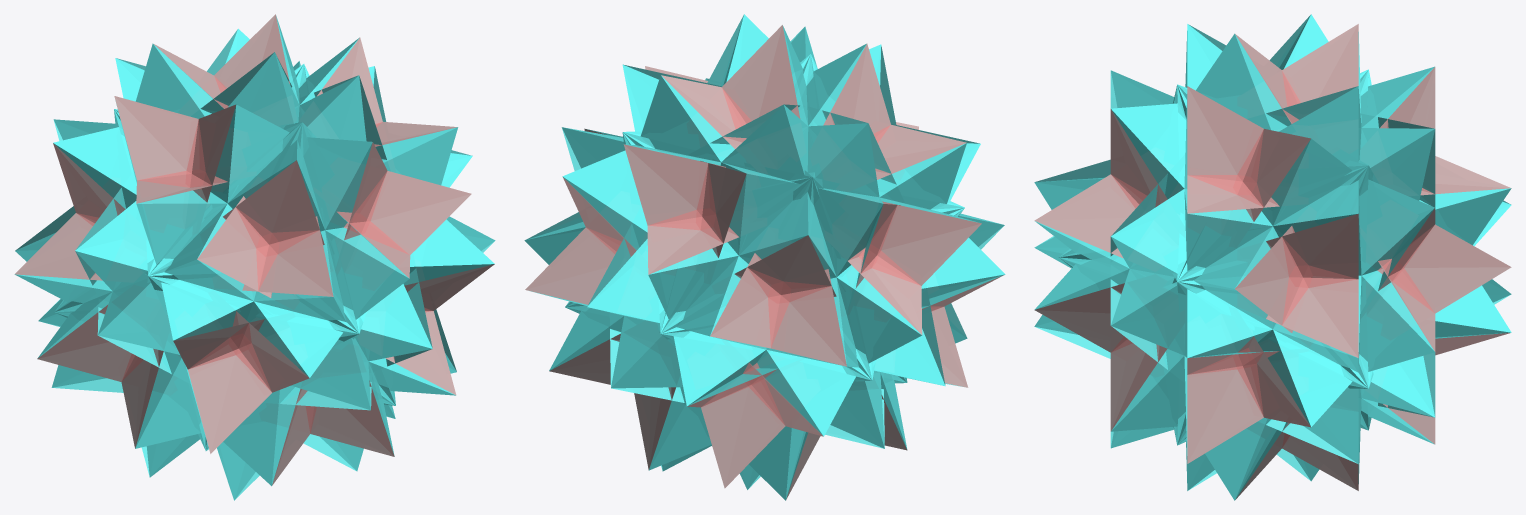
Rendered from 37_Dodekexcavated_Quitgissid.obj.
The picture shows the model from 3 angles, left to right: view 1: azimuth 30°, elevation 25°; view 2: azimuth 150°, elevation 25°; view 3: azimuth 270°, elevation 25°; orthographic projection. The views are drawn at different scales.
Bounding box in the file's own units: 1.24 × 1.3 × 1.25.
